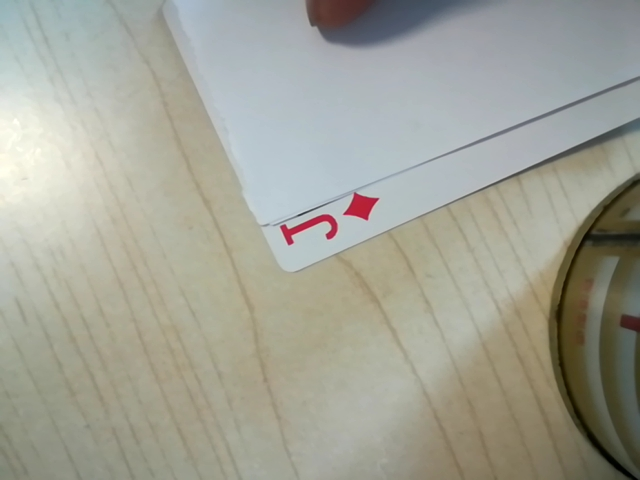fk j: (269, 192, 372, 255)
